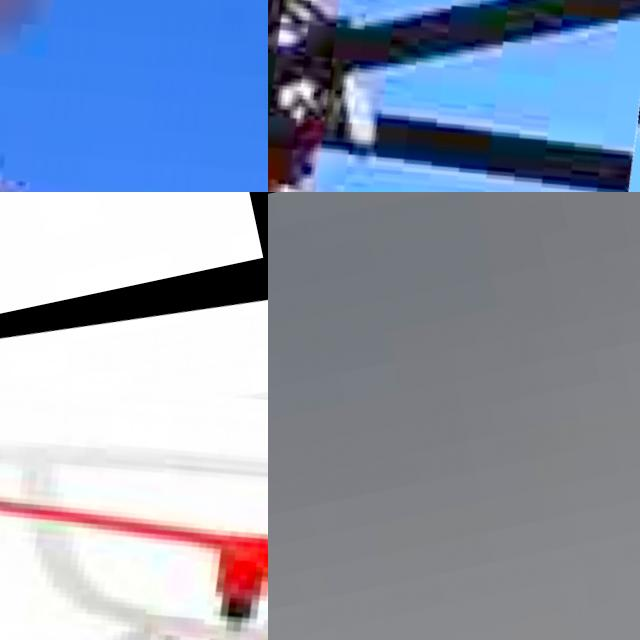0: (268, 0, 640, 192), (0, 0, 268, 192)
drone: (0, 257, 268, 640)
